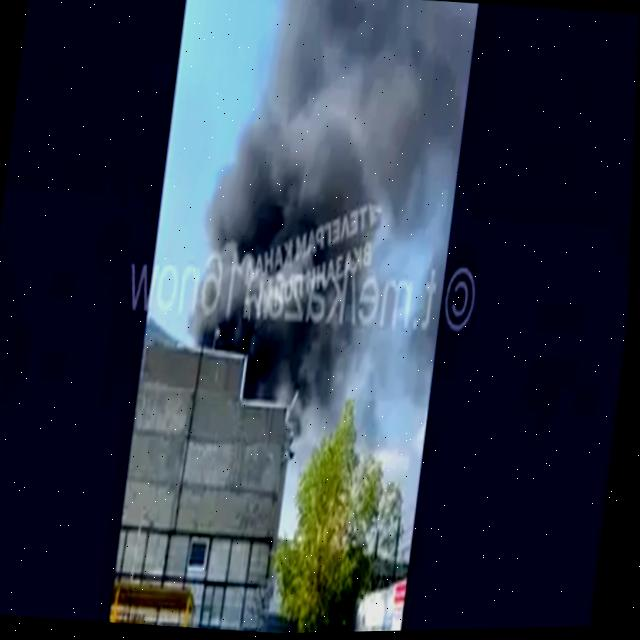Smoke: (187, 0, 478, 375)
